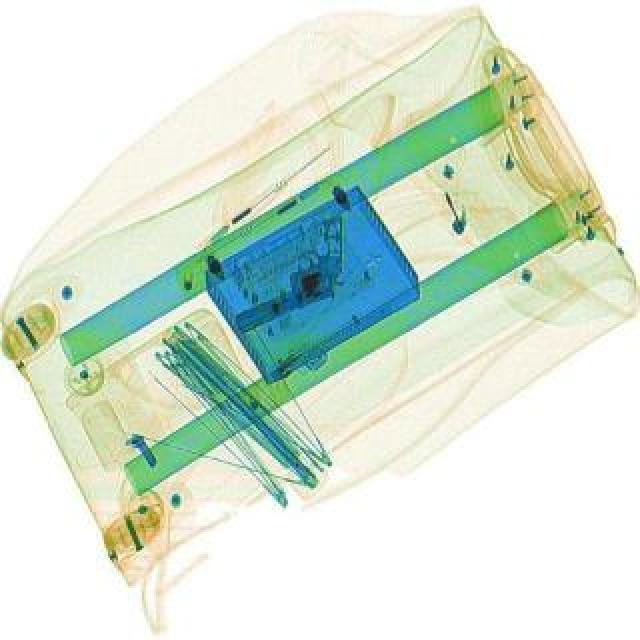gun: (206, 212, 374, 338)
